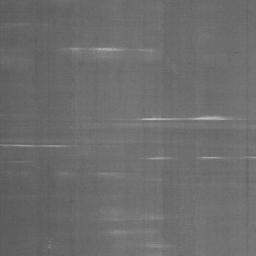Waist folding: (78, 142, 256, 162), (102, 214, 177, 250), (93, 114, 256, 128), (0, 143, 69, 165), (58, 170, 161, 182), (62, 45, 156, 53), (0, 21, 47, 24)
